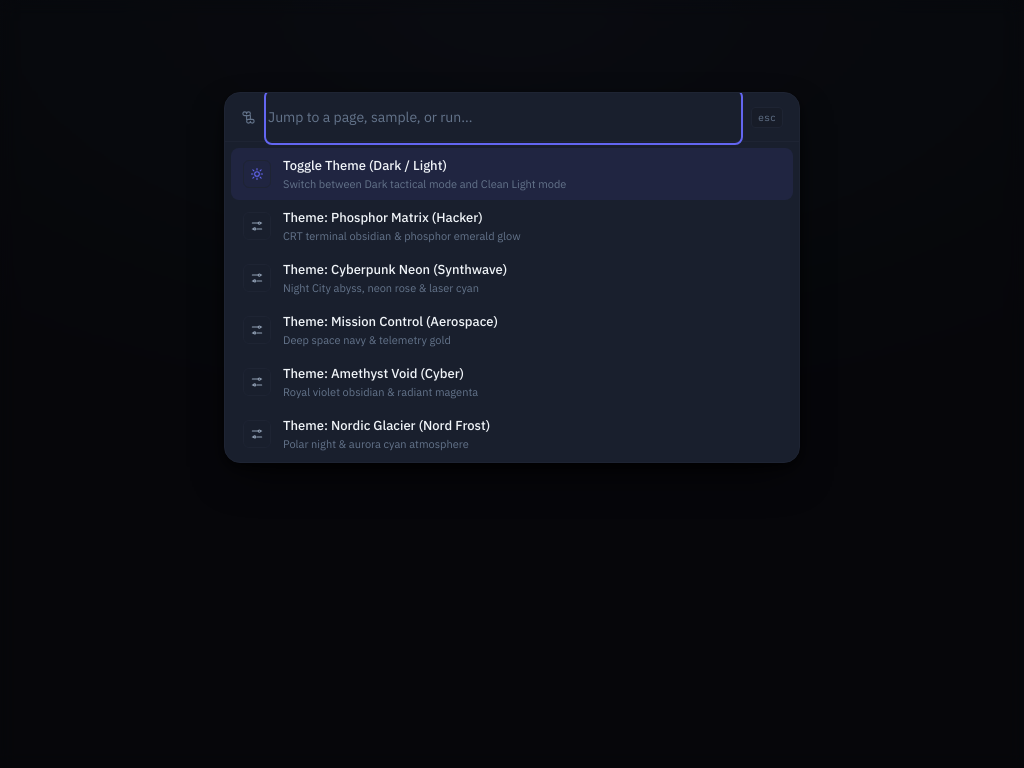
Test: CommandPalette reset action › Enter runs the confirmed wipe and shows the result banner in place
Type "reset" into the field named "Search".
click(504, 117); type("reset")  # box [268, 93, 739, 141]
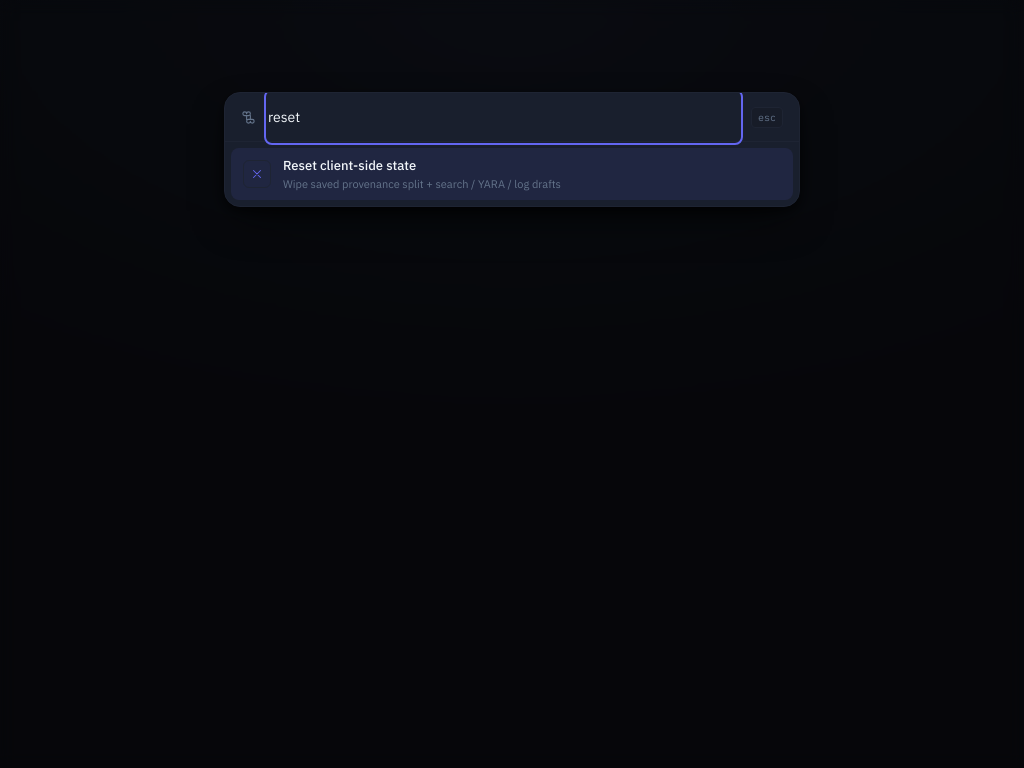
Press Enter in the field named "Search", box [268, 93, 739, 141]
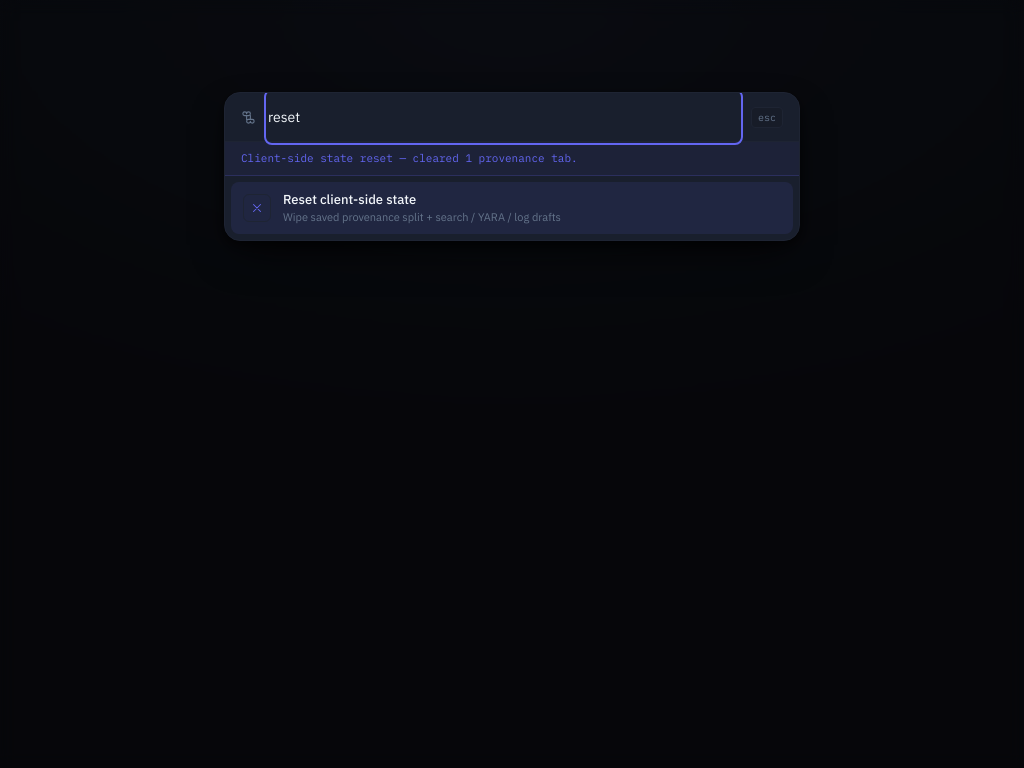
Expected: the text "Client-side state reset — cleared 1 provenance tab." is shown, [225, 142, 799, 176]
